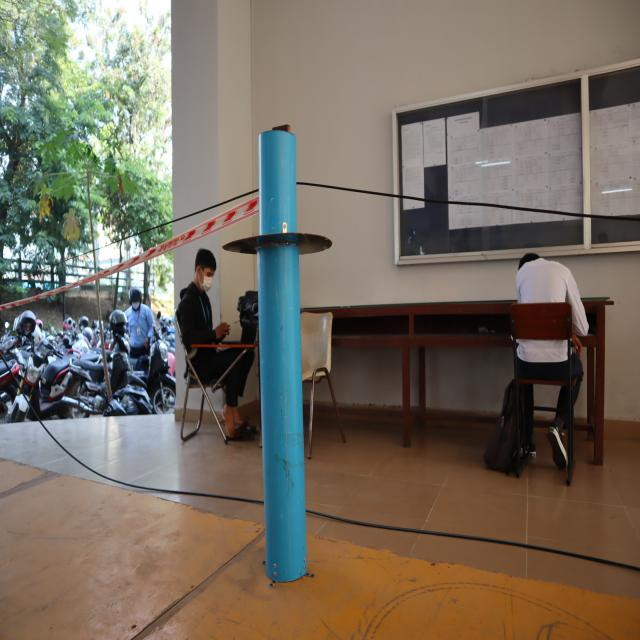pole: (217, 124, 342, 365)
